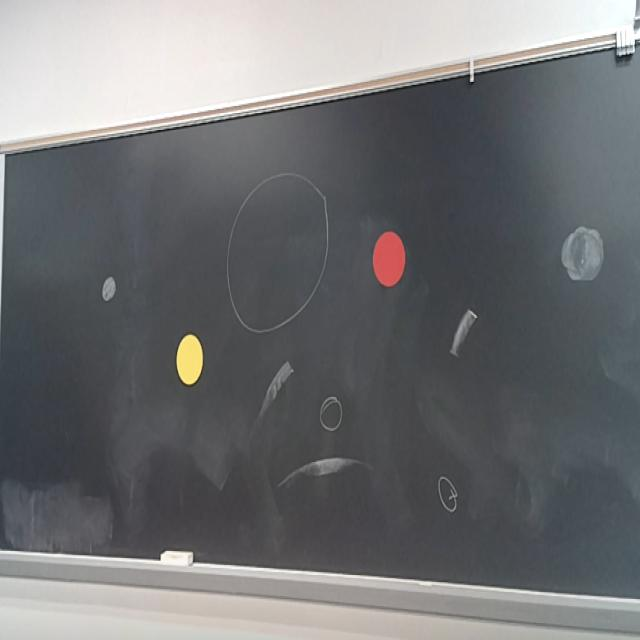Red: (374, 230, 406, 286)
Yellow: (176, 334, 204, 387)
